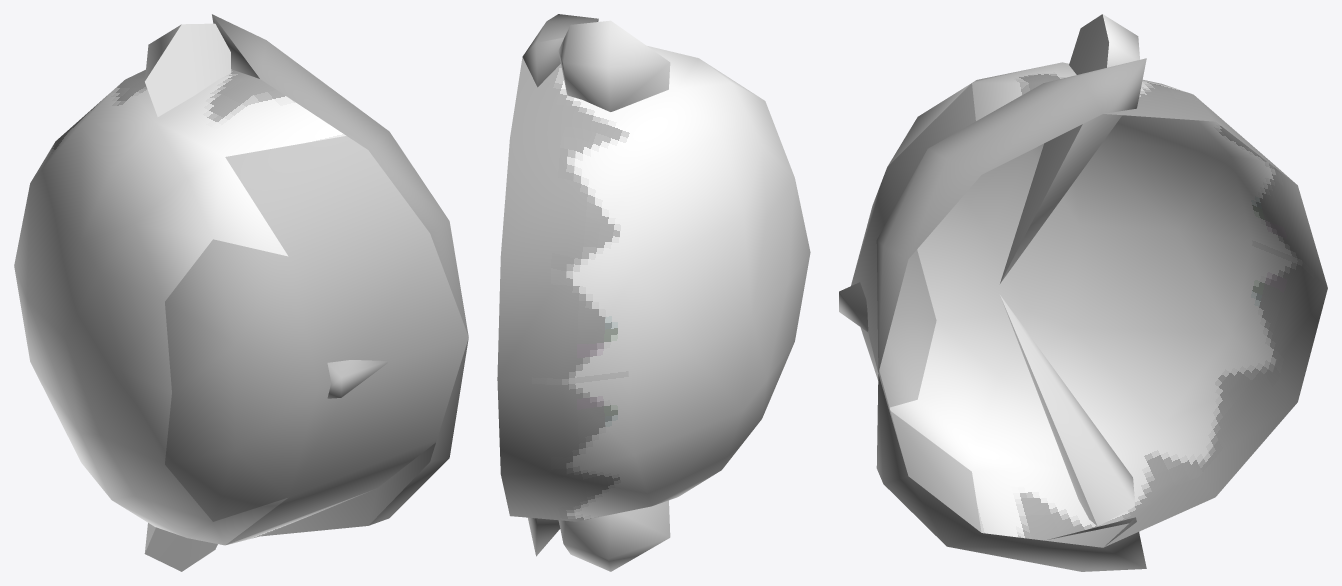
Rendered from boy04b.dae.
3 views of the same model, side by side, from view 1: azimuth 30°, elevation 25°; view 2: azimuth 150°, elevation 25°; view 3: azimuth 270°, elevation 25° (orthographic).
Parts seen in each view (by area): view 1: vsn_mesh_0_, vsn_mesh_1_, vsn_mesh_2_; view 2: vsn_mesh_0_; view 3: vsn_mesh_0_, vsn_mesh_1_, vsn_mesh_2_.
Boxes of the visible parts, x1,y1,x2,y2 form: vsn_mesh_0_: [14, 14, 468, 571]; vsn_mesh_1_: [225, 136, 468, 544]; vsn_mesh_2_: [165, 239, 317, 521]; vsn_mesh_0_: [497, 14, 810, 571]; vsn_mesh_0_: [876, 14, 1327, 571]; vsn_mesh_1_: [839, 83, 981, 532]; vsn_mesh_2_: [851, 170, 936, 407].
Bounding box in the file's own units: 15.5 × 26.71 × 21.59.
